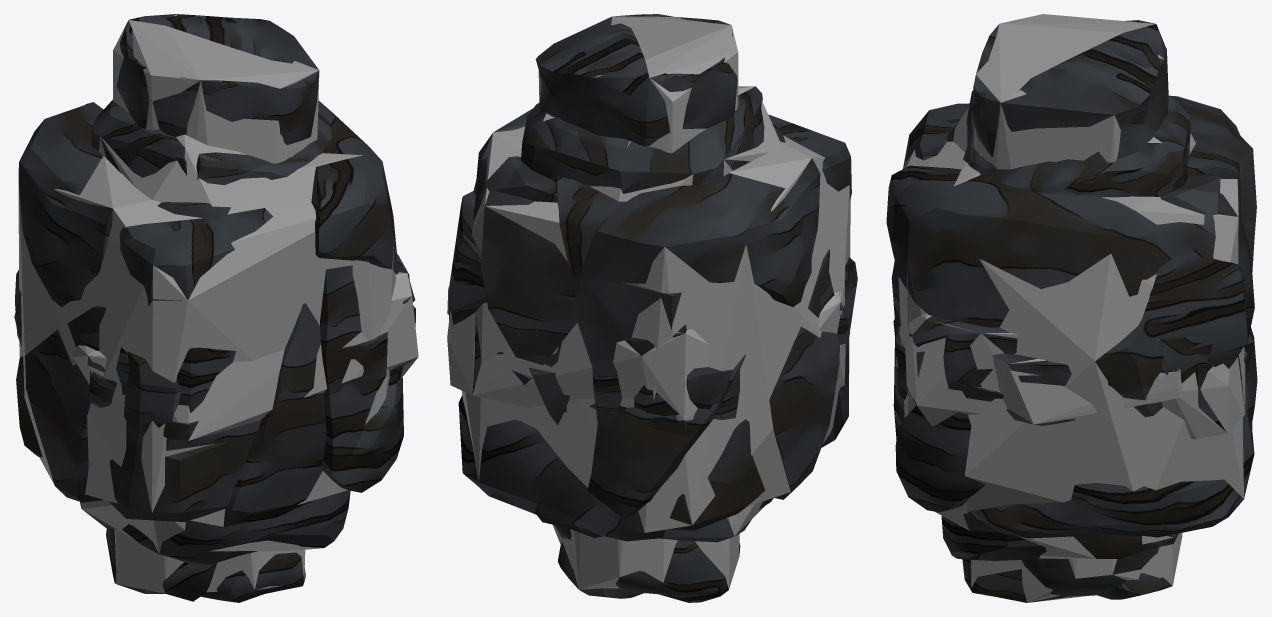
Rendered from Rocks_01.fbx.
3 views of the same model, side by side, from view 1: azimuth 30°, elevation 25°; view 2: azimuth 150°, elevation 25°; view 3: azimuth 270°, elevation 25° (orthographic).
Parts seen in each view (by area): view 1: Rock_F6, Rock_F6_COL, Rock_F2, Rock_F2_COL, Rock_F1, Rock_F5_COL, Rock_F1_COL, Rock_F5, Rock_F4, Rock_F4_COL; view 2: Rock_F6, Rock_F6_COL, Rock_F2, Rock_F1, Rock_F2_COL, Rock_F5_COL, Rock_F5, Rock_F1_COL, Rock_F4_COL; view 3: Rock_F6, Rock_F6_COL, Rock_F2, Rock_F2_COL, Rock_F1, Rock_F5_COL, Rock_F5, Rock_F4_COL, Rock_F4, Rock_F1_COL.
Part boxes in pixels (left/top/right/bottom): Rock_F6: left=14, top=100, right=403, bottom=526; Rock_F6_COL: left=18, top=153, right=395, bottom=526; Rock_F2: left=106, top=14, right=319, bottom=602; Rock_F2_COL: left=113, top=14, right=319, bottom=593; Rock_F1: left=80, top=100, right=350, bottom=564; Rock_F5_COL: left=172, top=272, right=418, bottom=440; Rock_F1_COL: left=81, top=134, right=323, bottom=553; Rock_F5: left=15, top=254, right=416, bottom=444; Rock_F4: left=87, top=355, right=116, bottom=407; Rock_F4_COL: left=73, top=345, right=106, bottom=384; Rock_F6: left=449, top=108, right=857, bottom=541; Rock_F6_COL: left=462, top=126, right=850, bottom=532; Rock_F2: left=535, top=14, right=740, bottom=602; Rock_F1: left=521, top=86, right=785, bottom=542; Rock_F2_COL: left=538, top=16, right=739, bottom=589; Rock_F5_COL: left=447, top=310, right=708, bottom=420; Rock_F5: left=449, top=265, right=848, bottom=427; Rock_F1_COL: left=543, top=86, right=780, bottom=536; Rock_F4_COL: left=447, top=287, right=842, bottom=333; Rock_F6: left=886, top=95, right=1257, bottom=538; Rock_F6_COL: left=898, top=141, right=1243, bottom=530; Rock_F2: left=962, top=19, right=1172, bottom=602; Rock_F2_COL: left=971, top=14, right=1182, bottom=602; Rock_F1: left=941, top=90, right=1190, bottom=560; Rock_F5_COL: left=896, top=313, right=1245, bottom=439; Rock_F5: left=897, top=316, right=1247, bottom=432; Rock_F4_COL: left=992, top=355, right=1182, bottom=424; Rock_F4: left=993, top=353, right=1179, bottom=425; Rock_F1_COL: left=953, top=98, right=1195, bottom=558.
Size of the model in its own units: 3.45 by 5.49 by 3.39.
